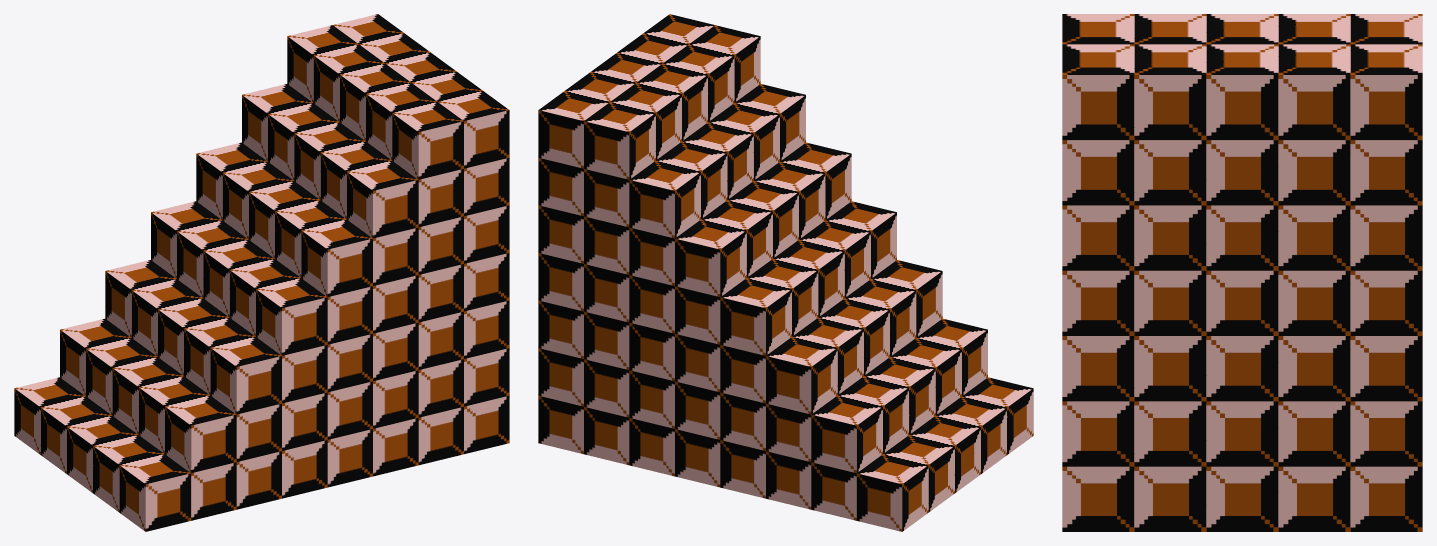
The model's file is StairsLP.dae.
3 views of the same model, side by side, from view 1: azimuth 30°, elevation 25°; view 2: azimuth 150°, elevation 25°; view 3: azimuth 270°, elevation 25° (orthographic). The views are drawn at different scales.
Visible parts, largest first — view 1: Cube; view 2: Cube; view 3: Cube.
Part boxes in pixels (bbox=[...]): Cube: bbox=[14, 14, 509, 531]; Cube: bbox=[538, 14, 1033, 531]; Cube: bbox=[1062, 14, 1422, 531].
Size of the model in its own units: 8 by 5 by 7.
Materials: 1 (1 with a texture image).
